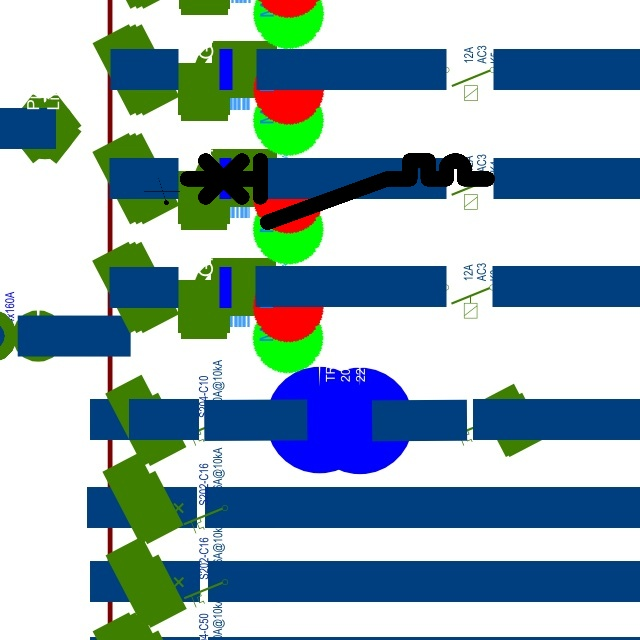interruptor_termomagnetico: (179, 153, 494, 230)
